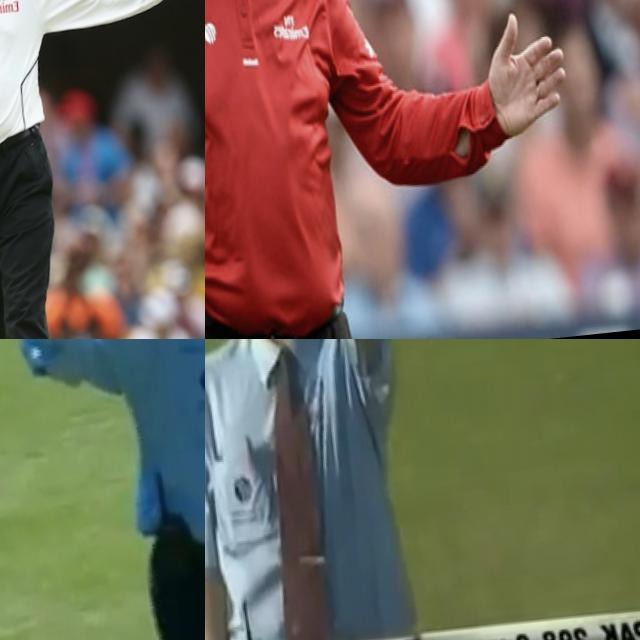No_Ball: (205, 0, 609, 339), (0, 0, 205, 339)
Out: (205, 339, 435, 640)
Wide: (0, 339, 205, 640)
